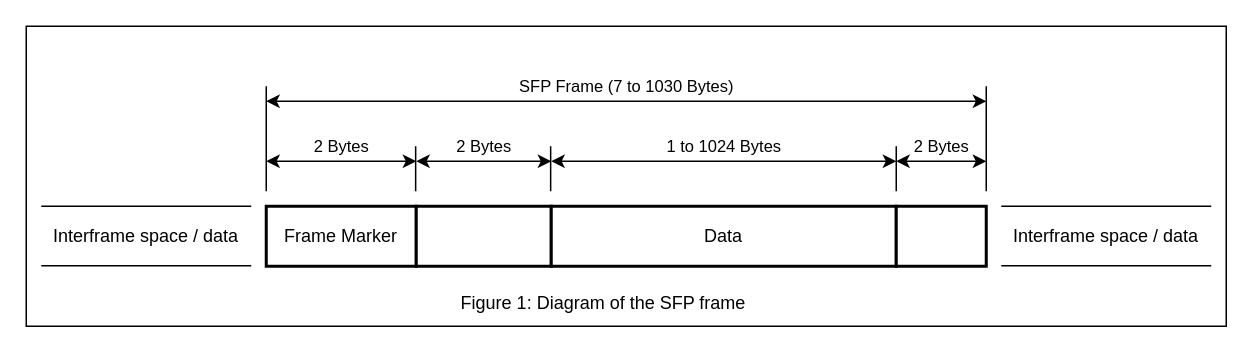
Image size: 1253x353. Some labels were removed from this diagram. Here are the shapes that lost their labels. From the top down, the centre of each, then its label:
At [483,235]: "Data Length".
At [940,235]: "CRC".
